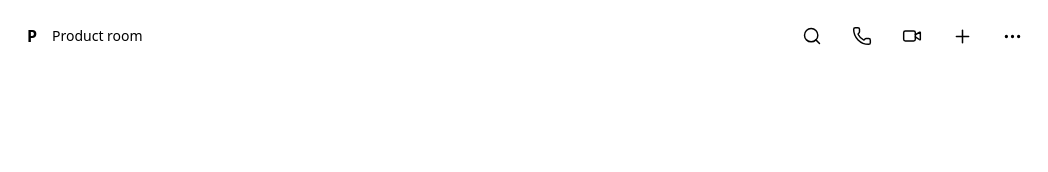
Scenario: FlareConversationHeader › keeps a More menu when more than one action overflows
What coordinates should you click on to do the following:
click the button named "More conversation actions"
I would click on:
 (1012, 36)
Its box is 988,12 -> 1036,60.
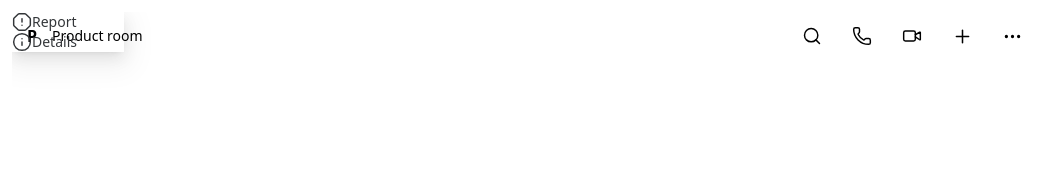
Expected: the text "Report" is shown, 32,12 -> 76,30
Expected: the text "Details" is shown, 32,32 -> 77,50
